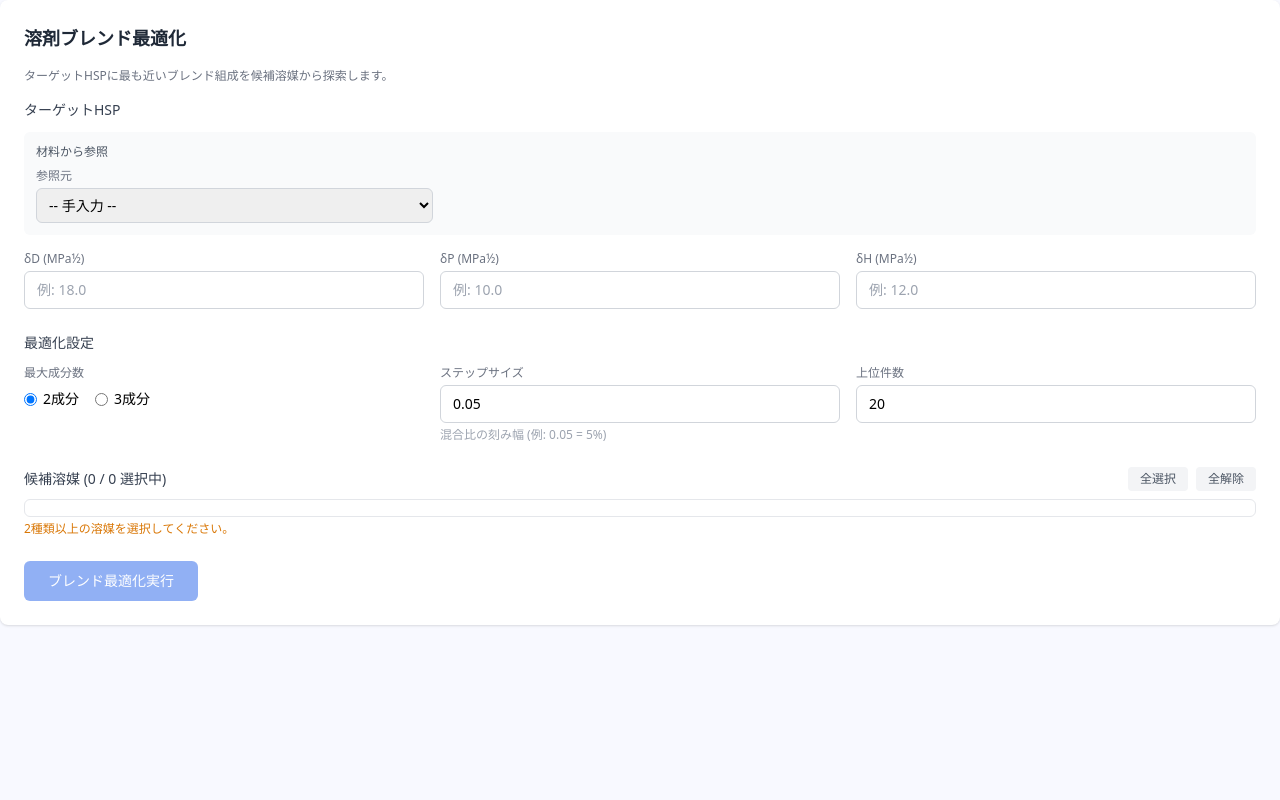
BlendOptimizerView - 材料からターゲットHSP参照 › Part選択時にグループ→部品の2段階セレクタが表示される
Select "ポリマー材料" in the dropdown labelled "参照元" at [235, 206], box [36,188,433,223]
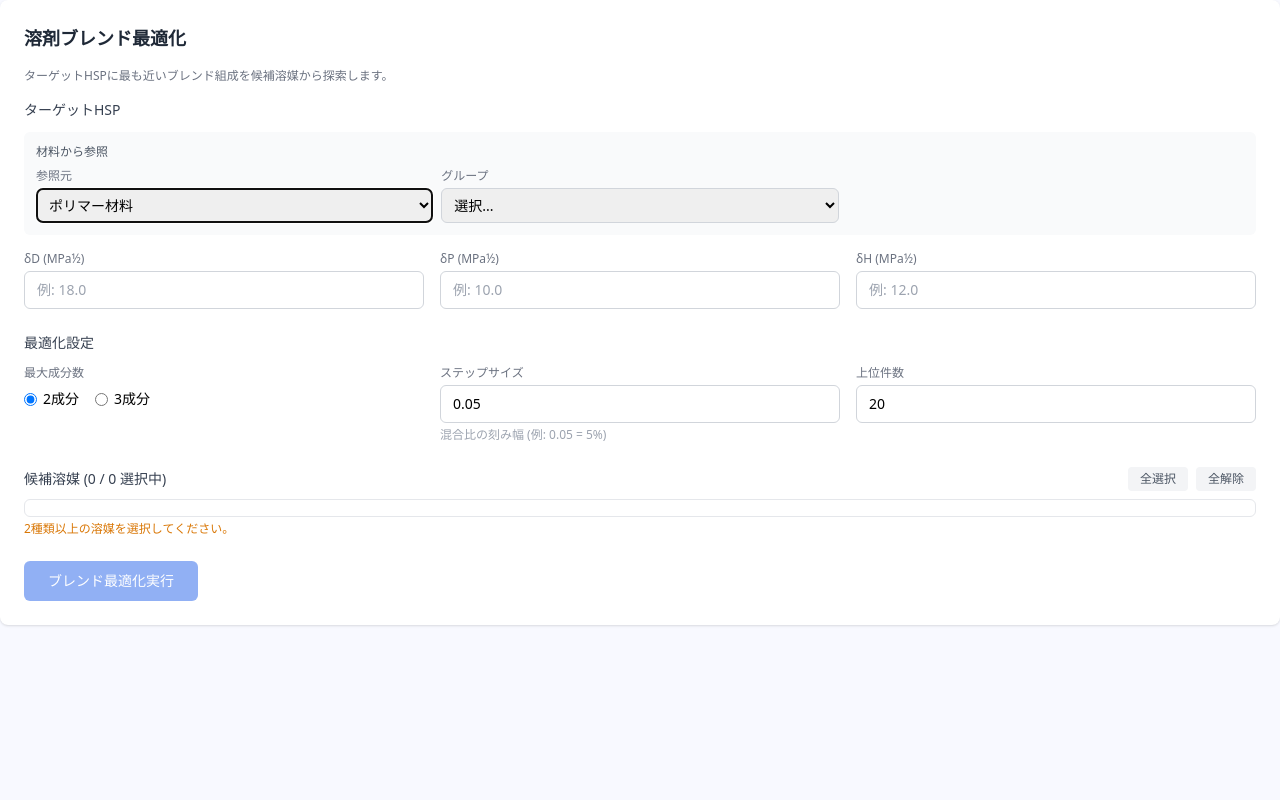
expect the dropdown labelled "グループ" is shown: met, box [441,188,839,223]
